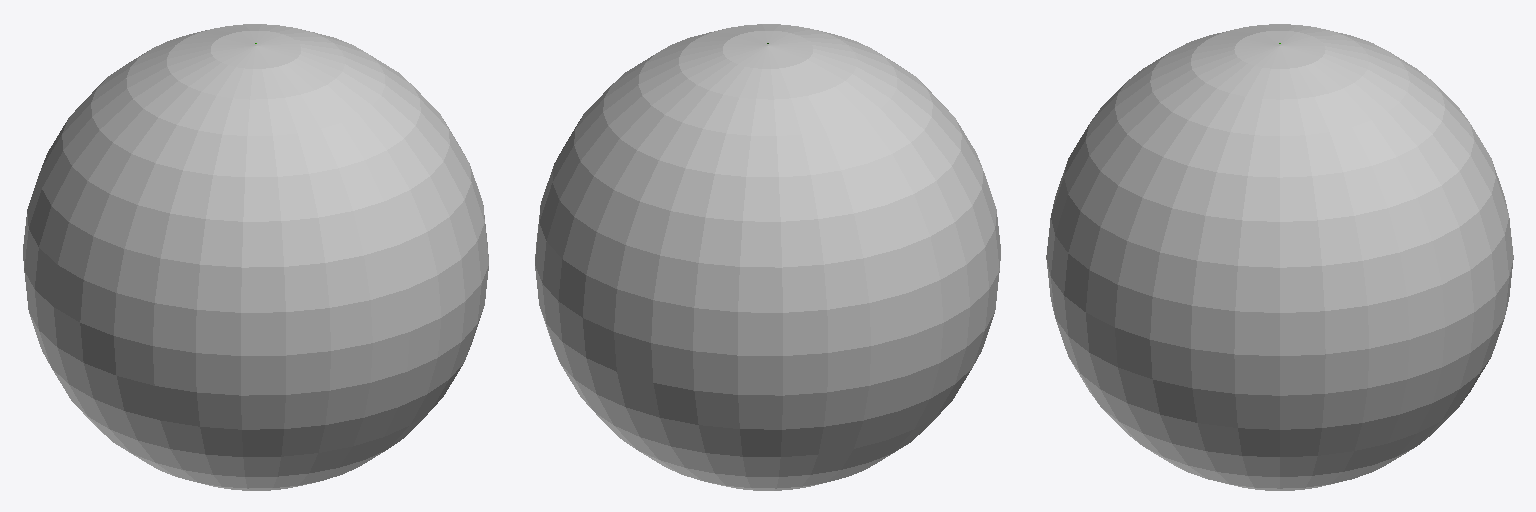
The model's file is tree2.obj.
The picture shows the model from 3 angles: view 1: azimuth 30°, elevation 25°; view 2: azimuth 150°, elevation 25°; view 3: azimuth 270°, elevation 25°; orthographic projection.
Visible parts, largest first — view 1: Sphere; view 2: Sphere; view 3: Sphere.
Boxes of the visible parts, box(x1,y1,x2,y2) form: Sphere: box(23, 24, 488, 490); Sphere: box(535, 24, 1000, 490); Sphere: box(1046, 24, 1513, 490).
Bounding box in the file's own units: 1005 × 1013 × 1005.